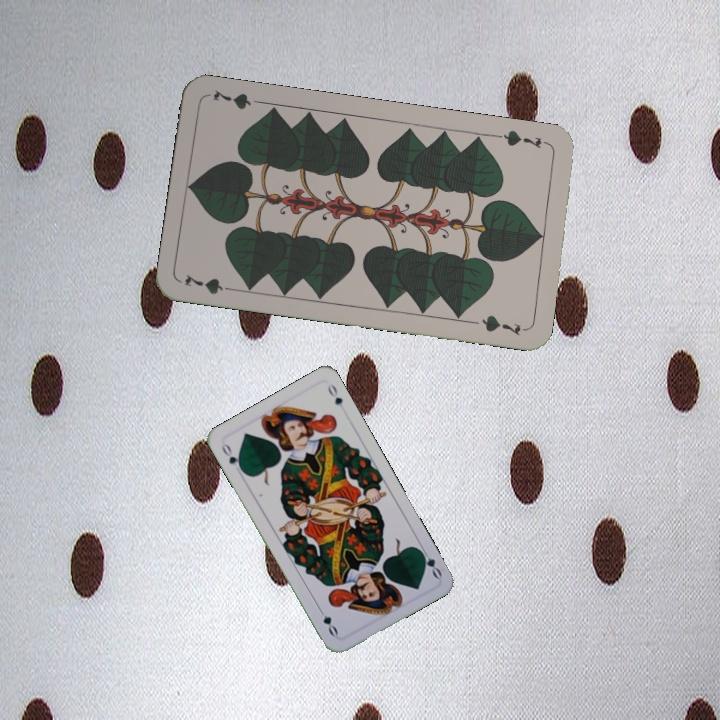G7: (181, 271, 239, 297), (493, 126, 552, 151)
GO: (415, 543, 445, 581), (217, 440, 246, 475)
